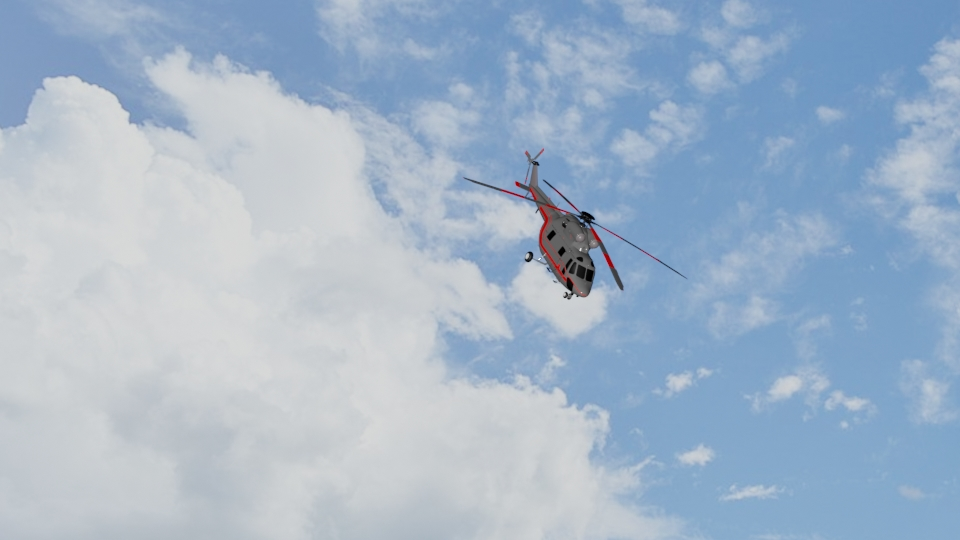heli: (452, 149, 690, 303)
